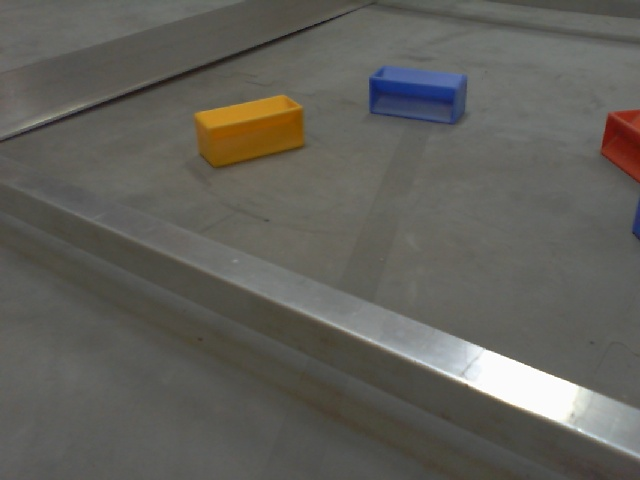BlueSample: (366, 64, 468, 127)
RedSample: (601, 106, 640, 185)
YellowSample: (193, 96, 309, 170)
